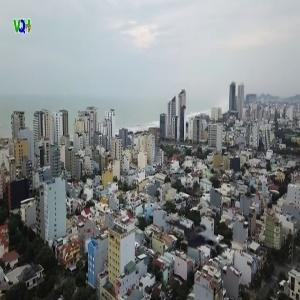drone: (158, 197, 241, 280)
